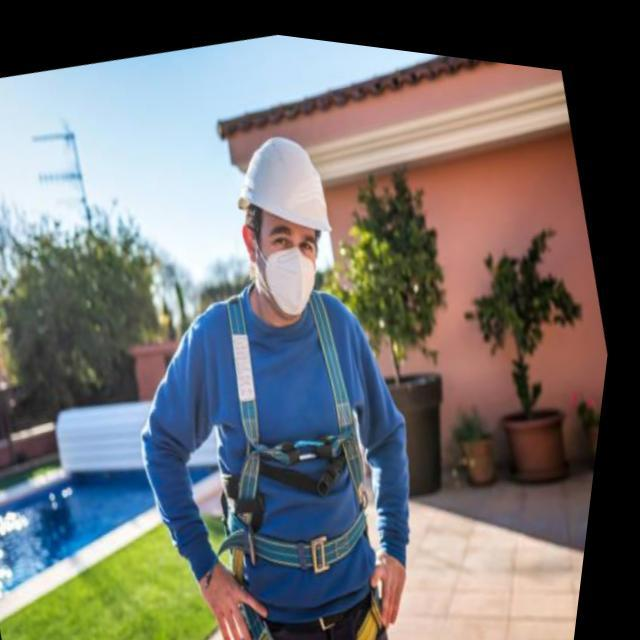belt: (157, 250, 450, 640)
